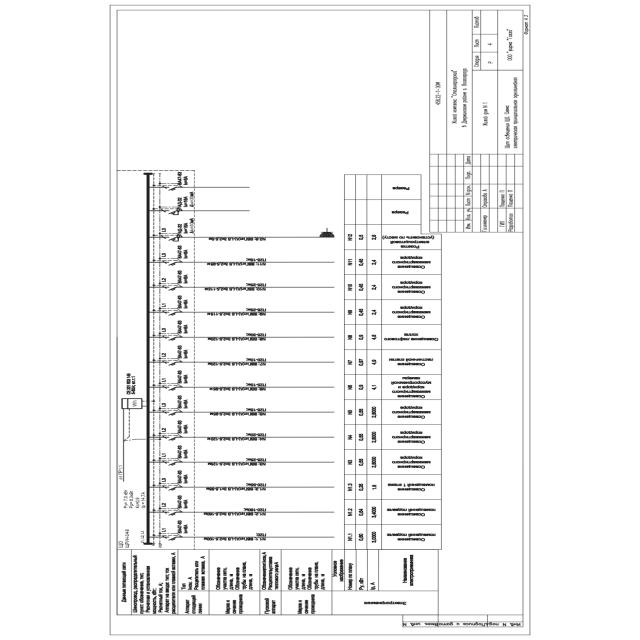-: (124, 373, 137, 395), (177, 191, 194, 207), (177, 218, 194, 234), (177, 493, 190, 509), (176, 519, 189, 535), (176, 244, 189, 260), (177, 444, 190, 460), (176, 320, 189, 335), (177, 370, 190, 385), (177, 344, 189, 360), (177, 294, 189, 310), (177, 469, 189, 485), (177, 393, 189, 409), (176, 172, 189, 186), (177, 269, 189, 284), (177, 419, 189, 434), (125, 528, 130, 549)
QF: (161, 310, 178, 318), (161, 486, 178, 494), (161, 434, 177, 442), (162, 409, 178, 417), (162, 359, 178, 367), (161, 261, 178, 268), (162, 510, 179, 517), (161, 285, 177, 292), (161, 185, 177, 192), (161, 535, 177, 542), (161, 335, 177, 342), (162, 461, 178, 468), (162, 385, 178, 392)
QFD: (160, 232, 180, 242), (160, 207, 180, 216)
WH: (121, 397, 143, 410)
